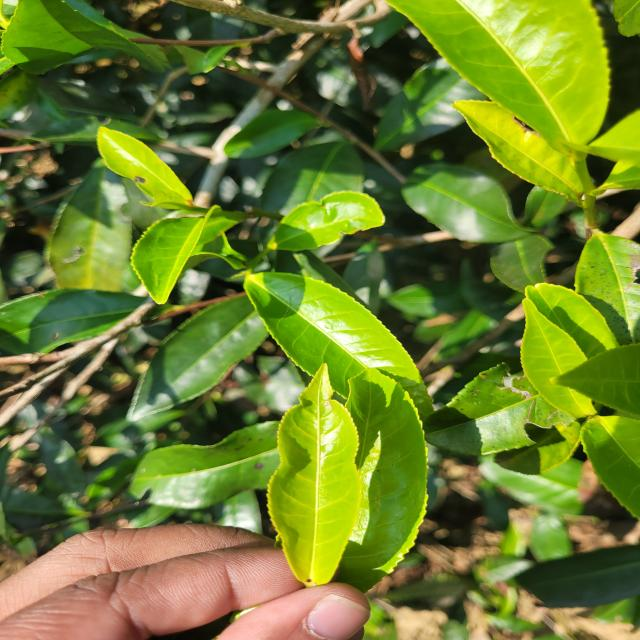Catagory A 1-2 days: (254, 359, 376, 597)
